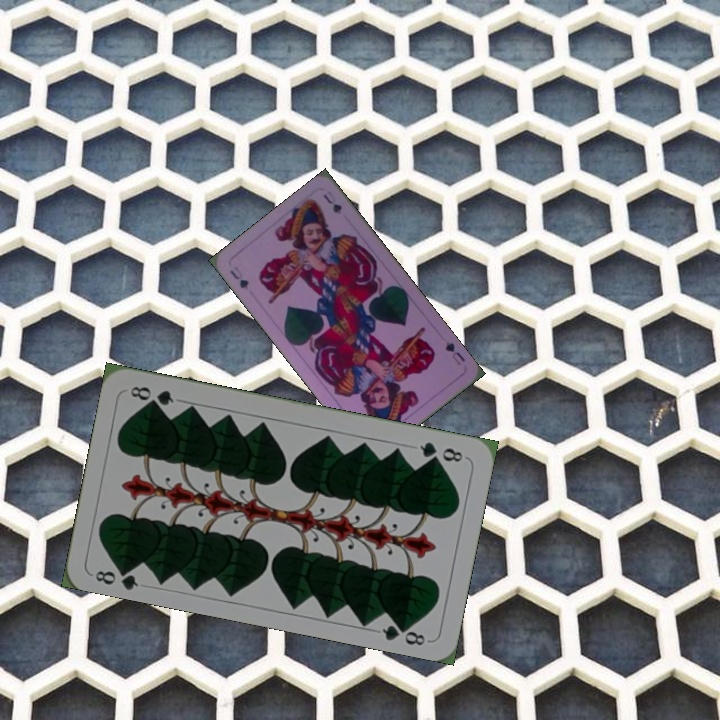G8: (91, 561, 141, 592), (415, 437, 466, 465)
GU: (441, 337, 468, 368), (225, 262, 251, 292)
